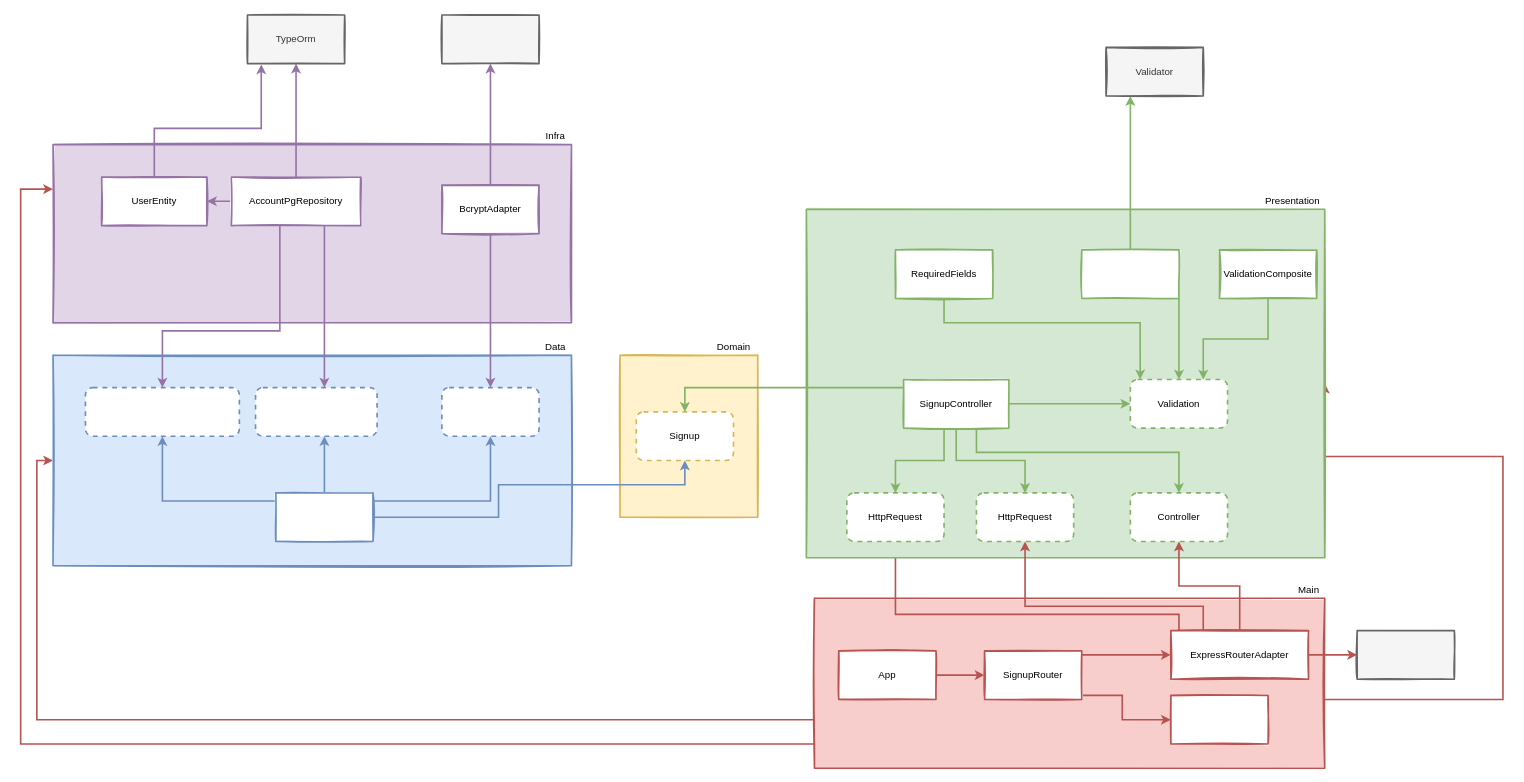
This 1524x782 diagram has some shape labels left out. The shapes that lost their labels are listed below. From the top down, each one's centre as x and y in pixels, then its label:
At point 490,39: "Bcrypt".
At point 1130,274: "EmailValidator".
At point 162,411: "LoadAccountByEmailRepository".
At point 315,411: "AddAccountRepository".
At point 490,411: "Hash".
At point 324,517: "DbAddAccount".
At point 1405,654: "Express".
At point 1219,719: "SignupFactory".
